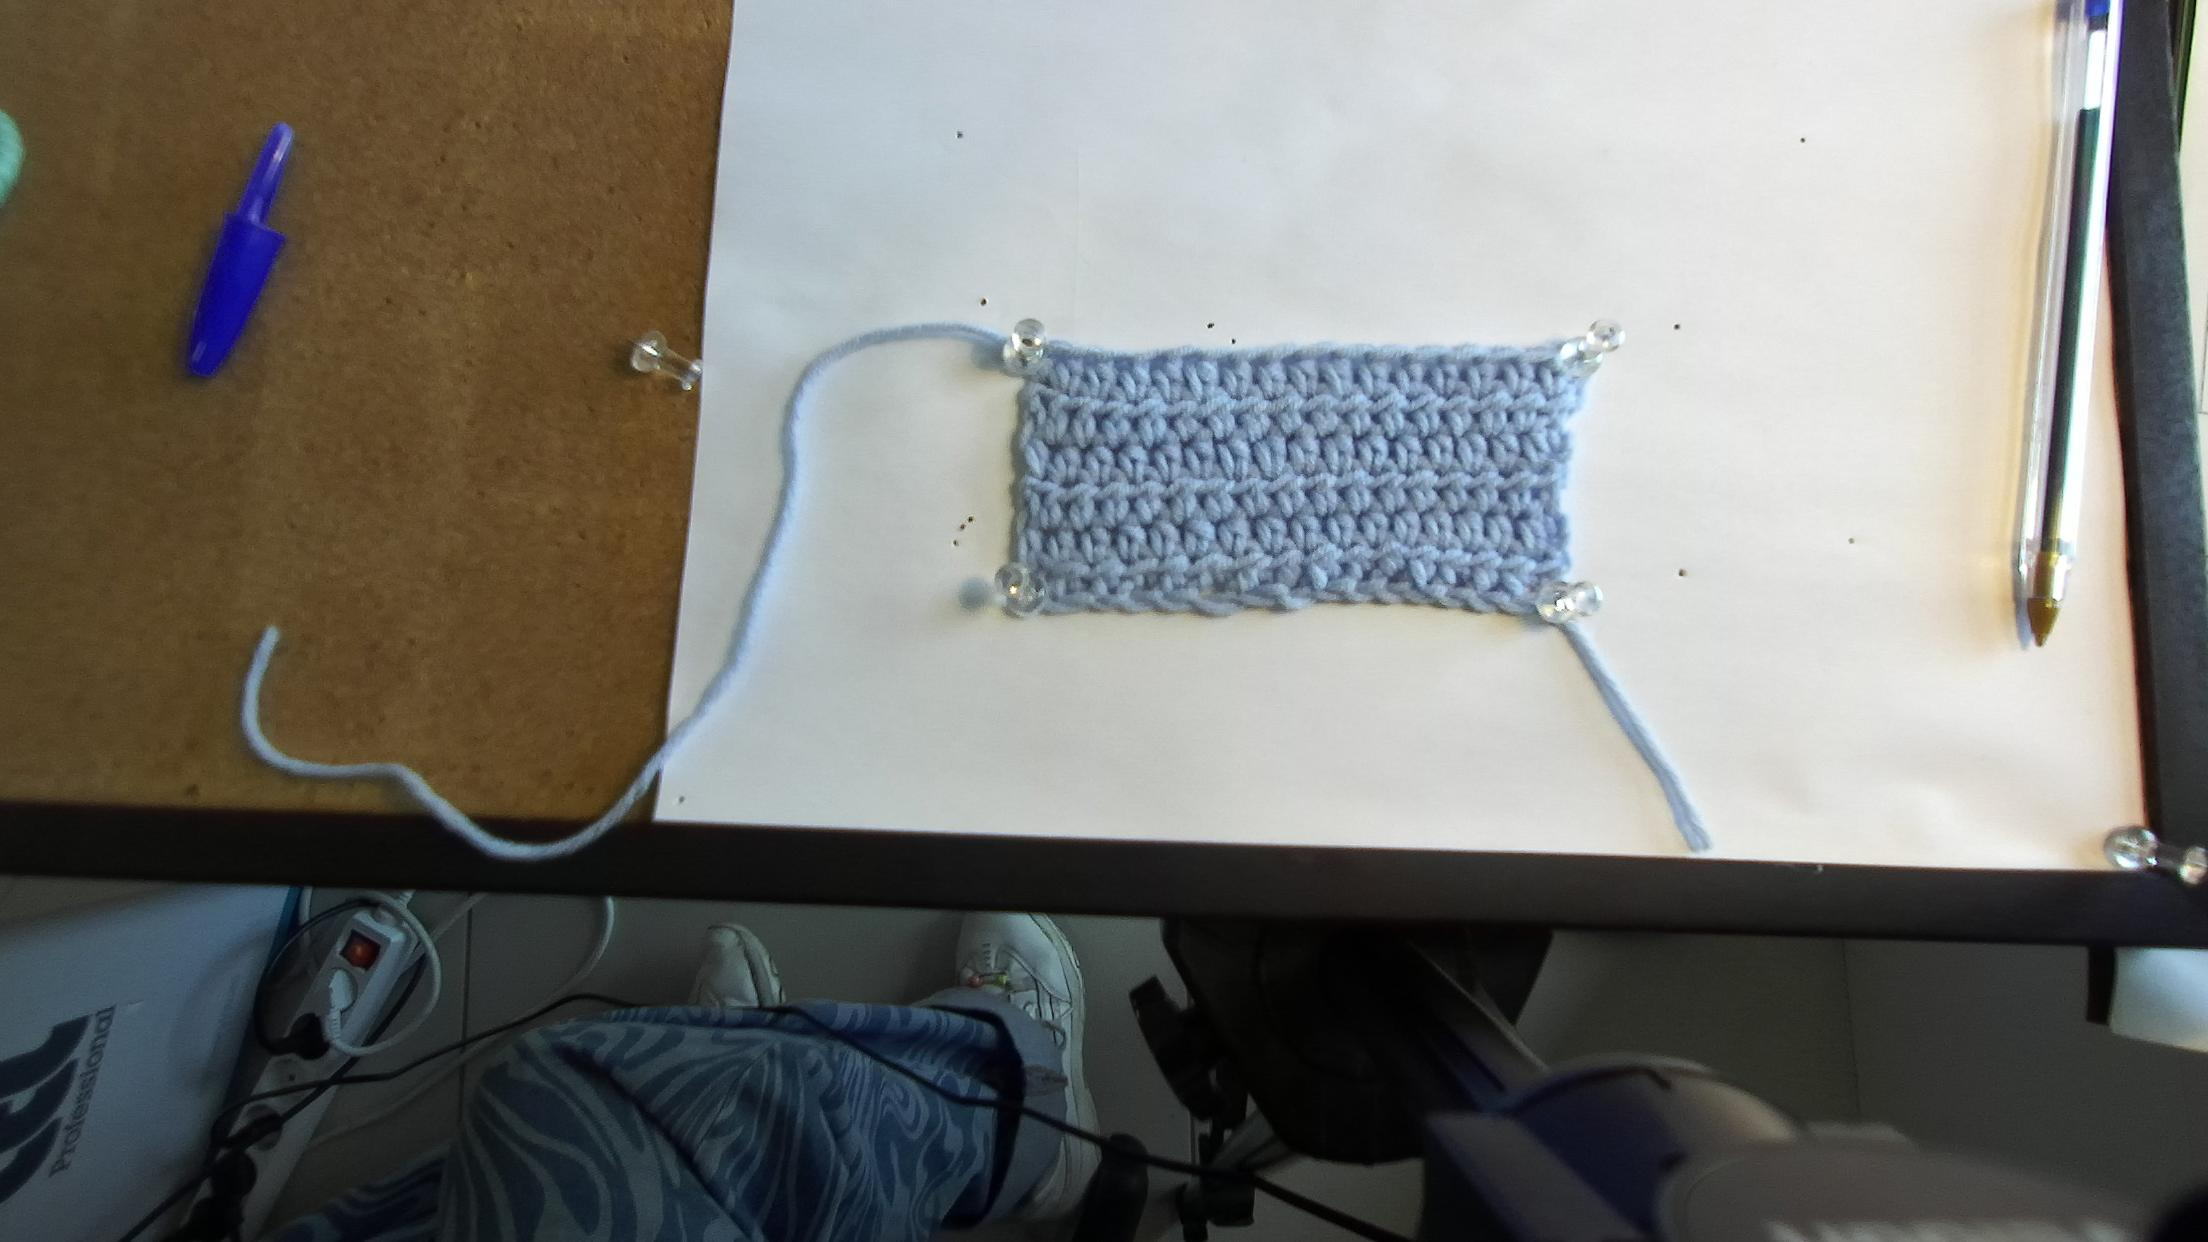hole: (1424, 356, 1442, 370), (1315, 352, 1335, 364), (1149, 358, 1166, 372), (1251, 355, 1268, 369), (1462, 356, 1483, 367), (1116, 361, 1134, 373), (1281, 353, 1300, 365), (1386, 356, 1404, 369), (1183, 355, 1200, 367), (1350, 353, 1368, 364), (1494, 358, 1518, 365), (1051, 353, 1068, 364), (1218, 358, 1234, 369), (1083, 355, 1096, 367), (1530, 359, 1551, 367)
swatch: (999, 328, 1604, 623)
